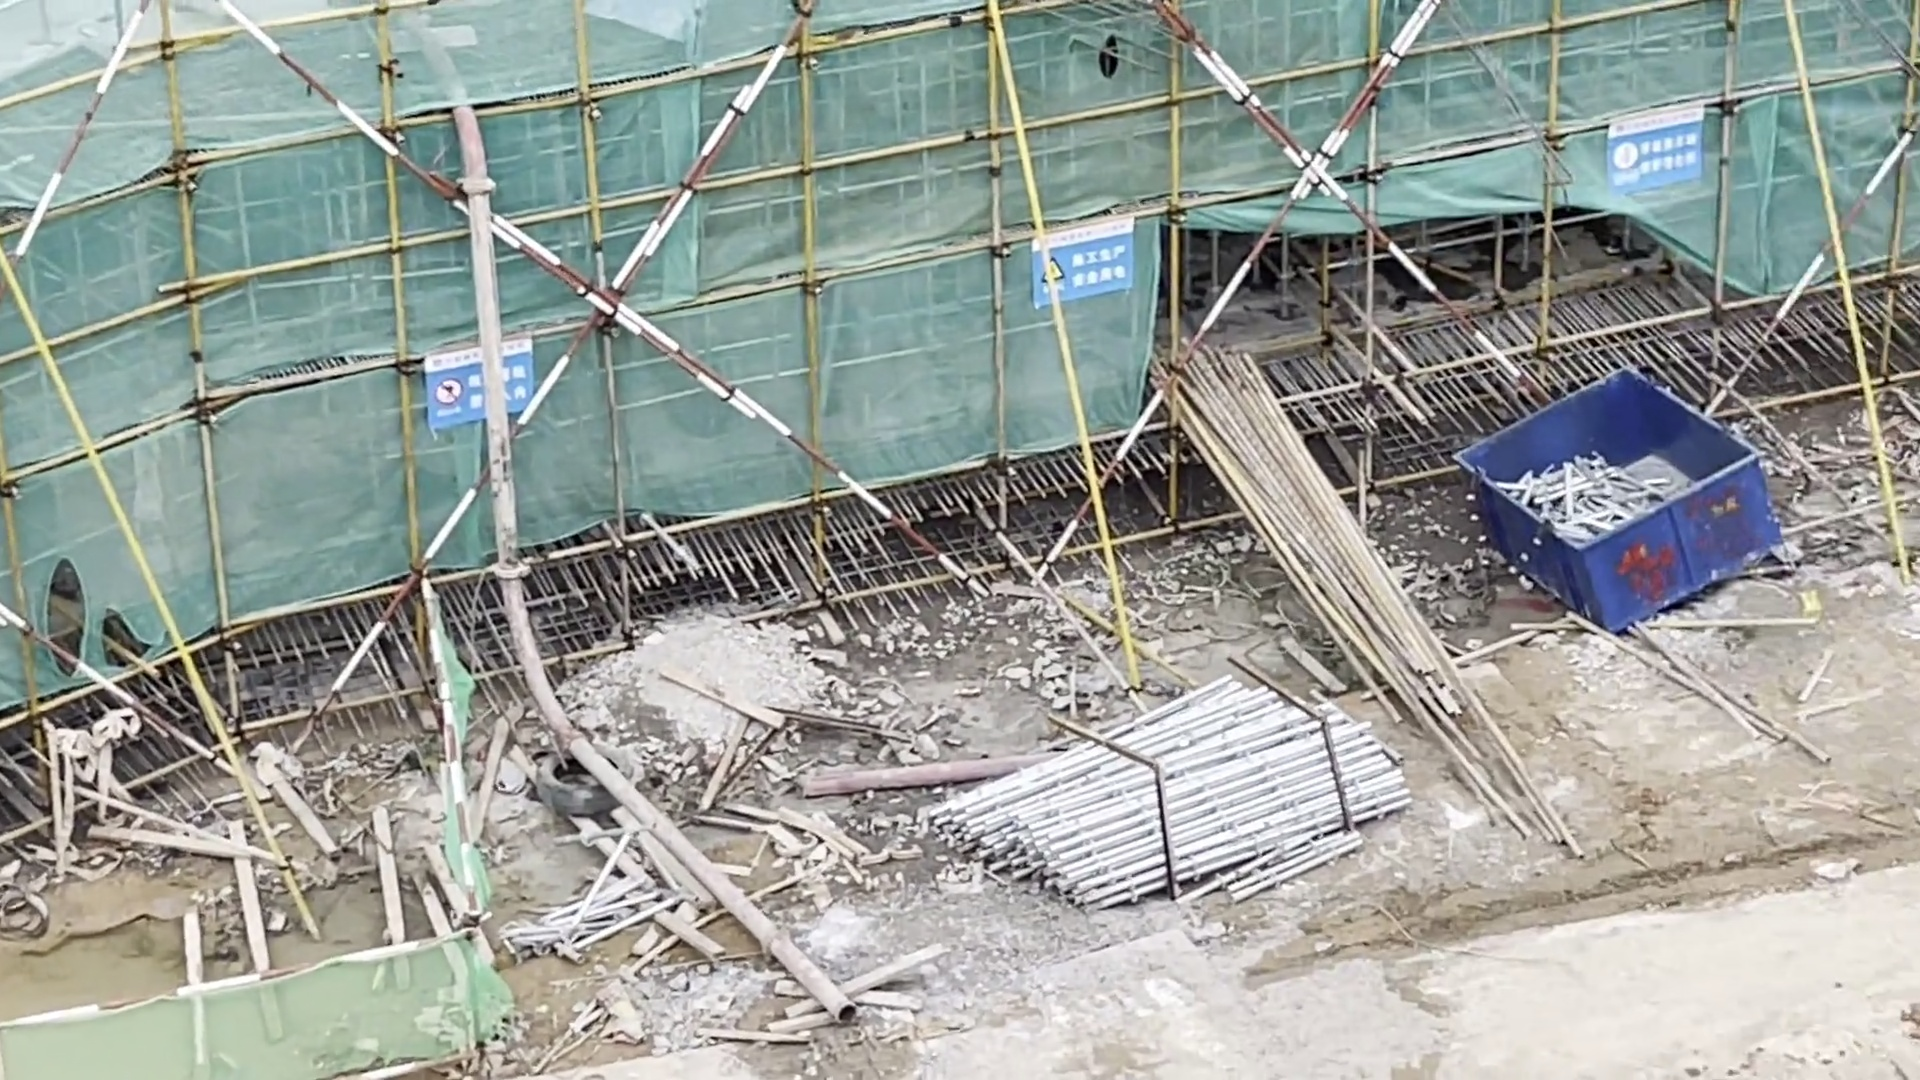hopper: (1460, 371, 1791, 628)
scaffold: (944, 682, 1414, 897)
